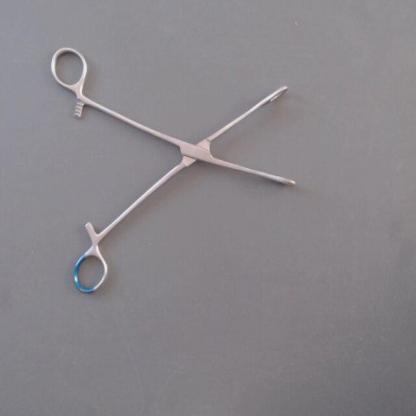Sponge Forceps: (43, 37, 306, 305)
